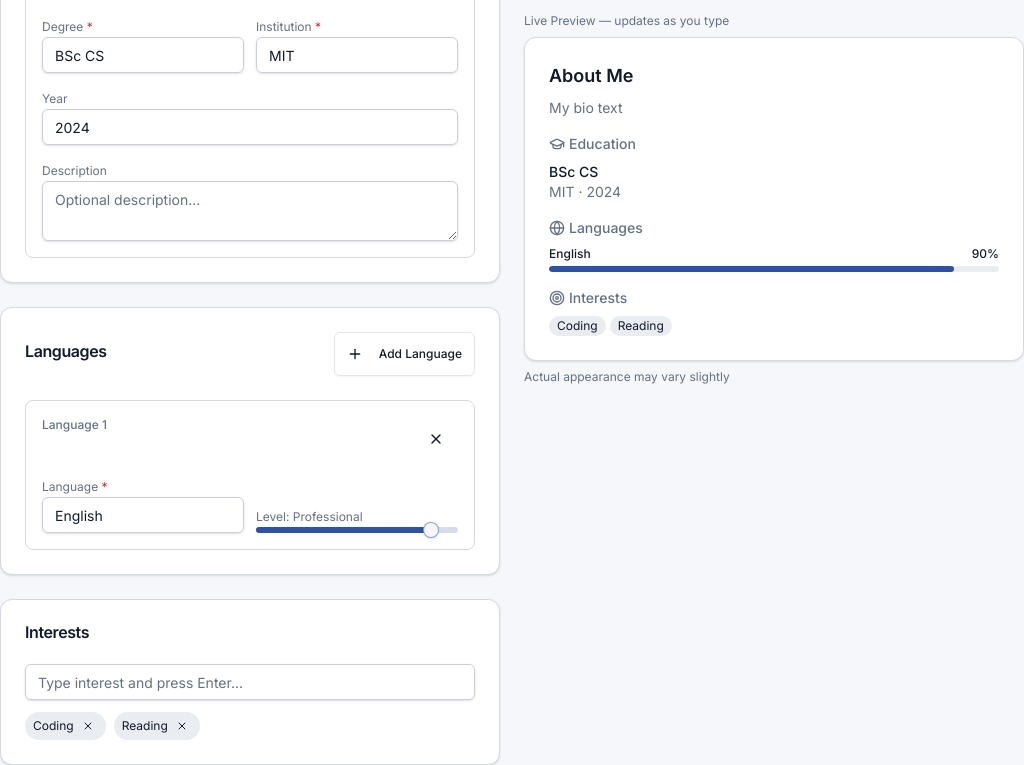
Test case: AboutEditor form integration › adds and removes interests
(page scrolled)
Note: Remove first interest
Click the button named "Remove interest" at (88,726), box [78,716,98,736]
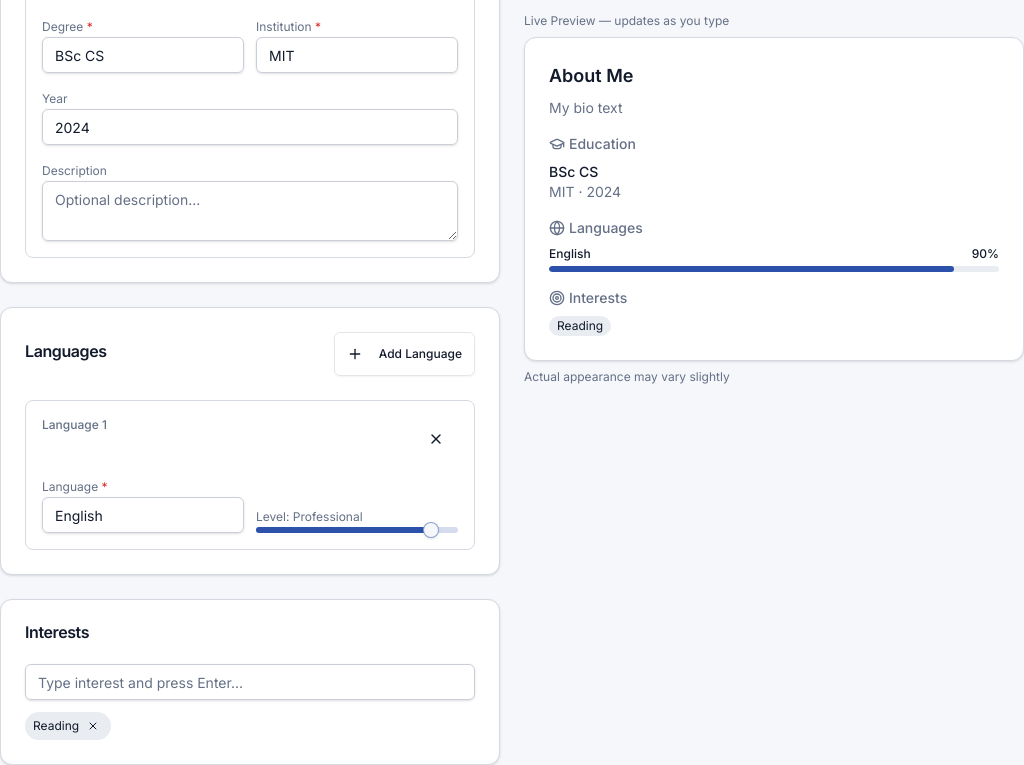
Check: the number of buttons named "Remove interest" is 1, box [83,716,103,736]
